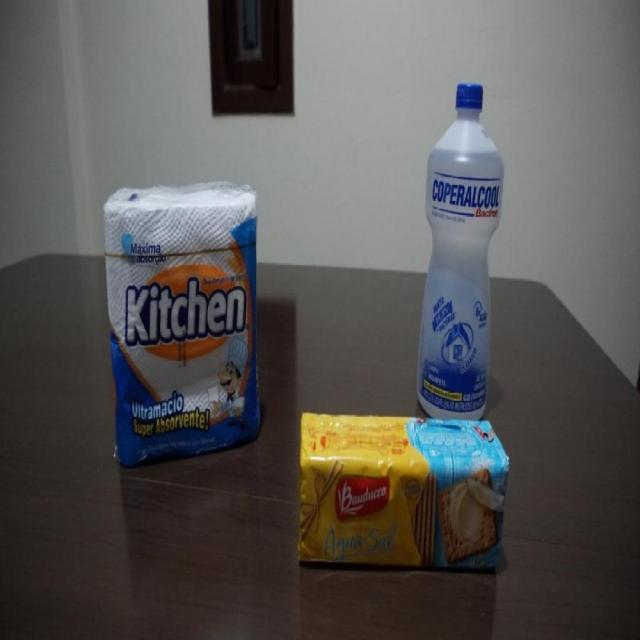AlcoholBottle: (418, 77, 503, 423)
Cracker: (295, 409, 511, 575)
Napkin: (104, 185, 262, 464)
